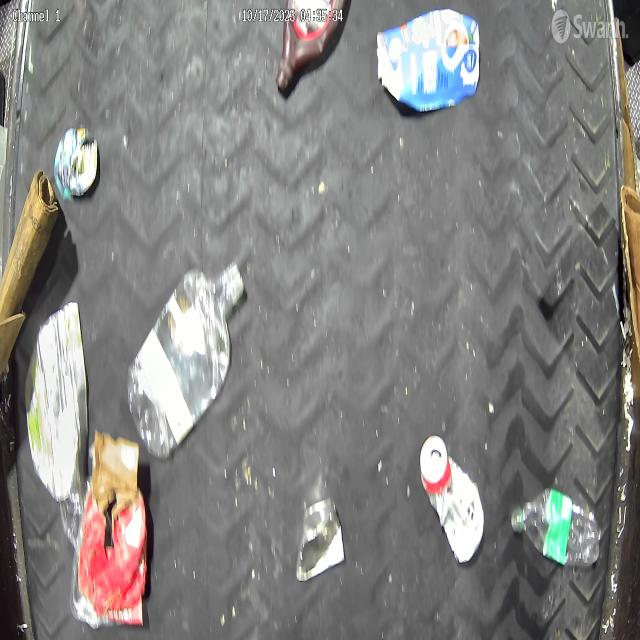can: (23, 298, 92, 504), (420, 433, 486, 565), (296, 496, 345, 583), (54, 125, 99, 200)
non_white_jug: (377, 8, 480, 114), (275, 0, 347, 91)
plastic_bottle: (126, 264, 245, 459), (510, 487, 604, 568)
